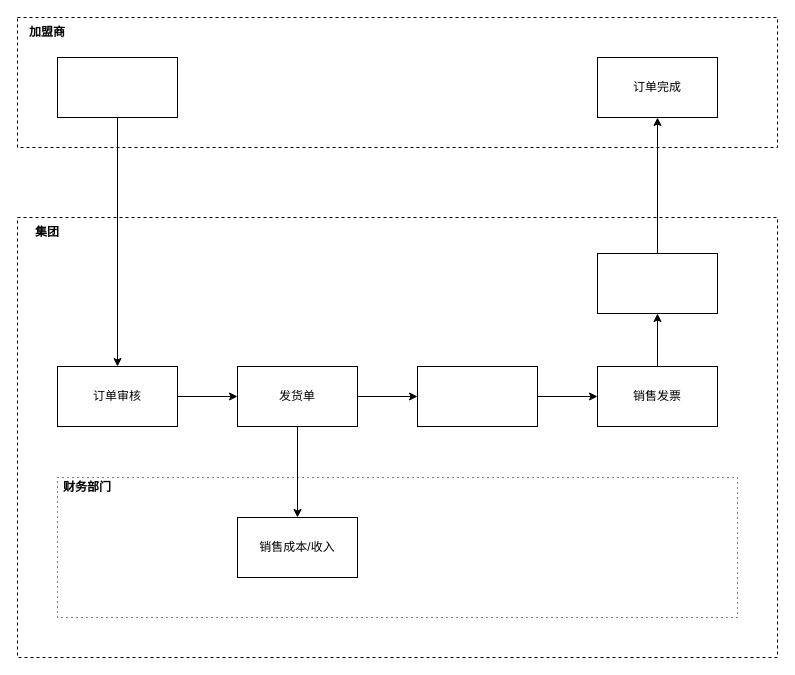
Image size: 795x675. Some labels were removed from this diagram. The shapes that lost their labels are listed below. From the top down, each one's centre as x and y in pixels, then its label:
At (x=117, y=87): "订单下单".
At (x=657, y=283): "凭证生成".
At (x=477, y=396): "销售出库单".
